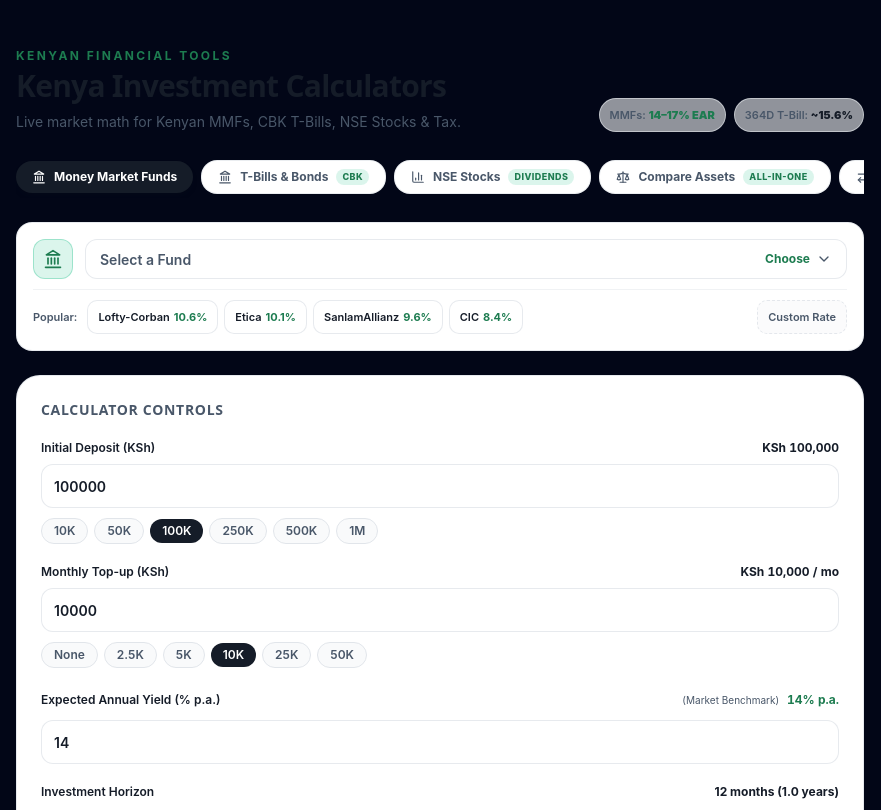
Scenario: CalculatorPage Multi-Asset Experience › switches to Cross-Asset Benchmark when tab is clicked
Click the button "Compare Assets All-in-One" at (715, 177), box [599, 160, 831, 194]
(page scrolled)
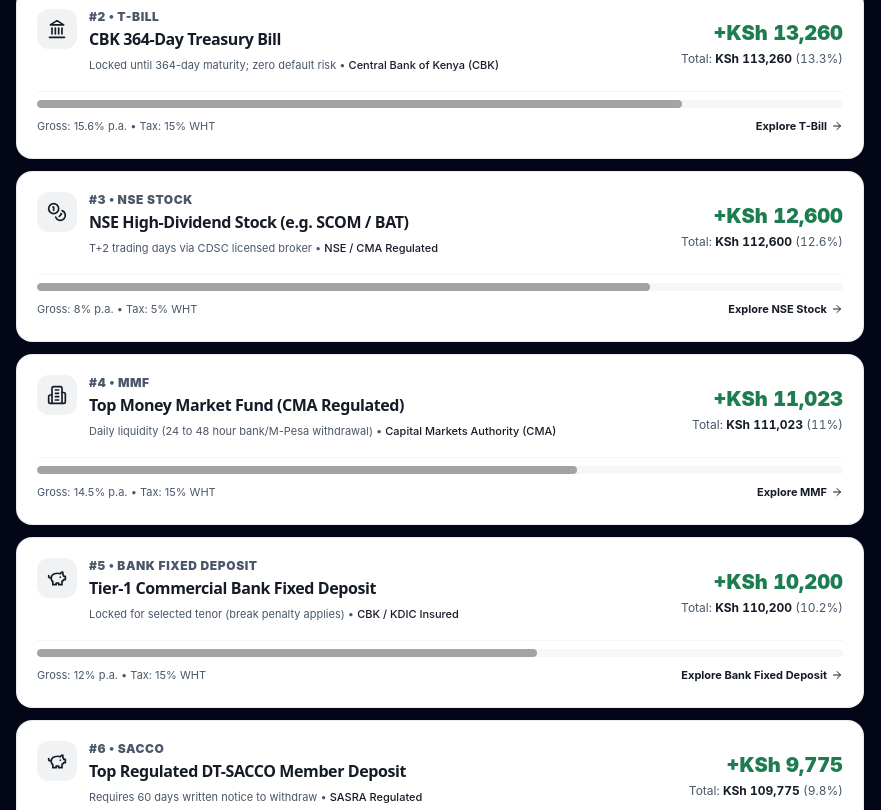
Expected: the heading "Top Money Market Fund (CMA Regulated)" is shown, [89, 394, 404, 416]
